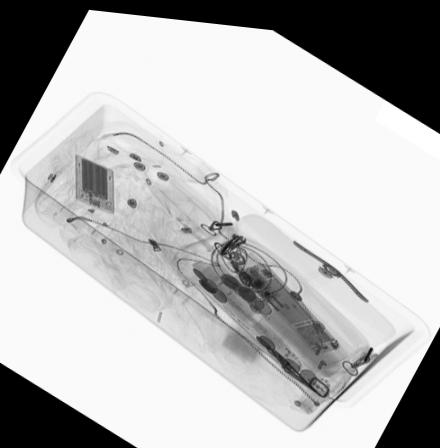Powerbank: (74, 150, 113, 213)
